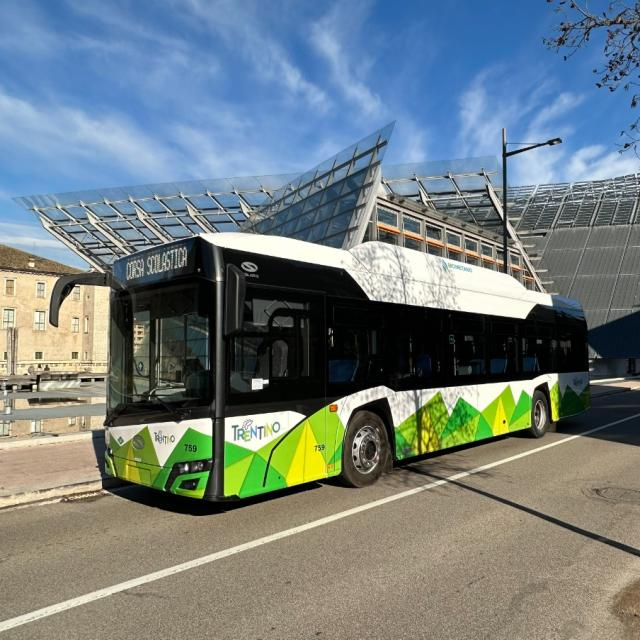bus: (48, 231, 593, 510)
